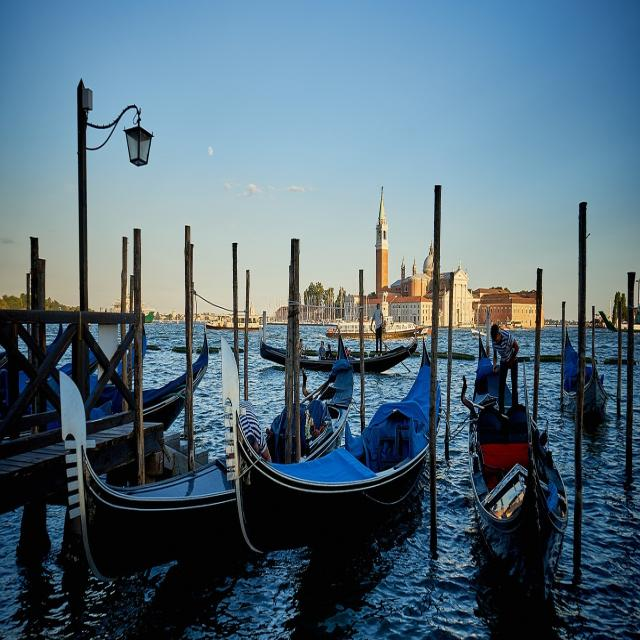boat: (39, 340, 355, 578), (210, 324, 446, 575), (457, 304, 574, 626)
